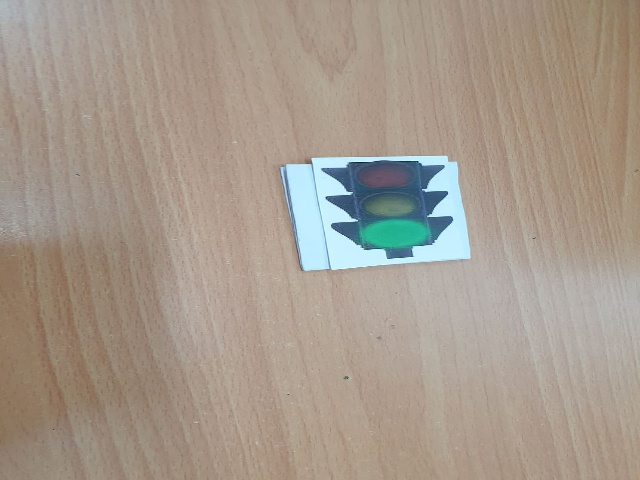Green: (321, 157, 452, 257)
